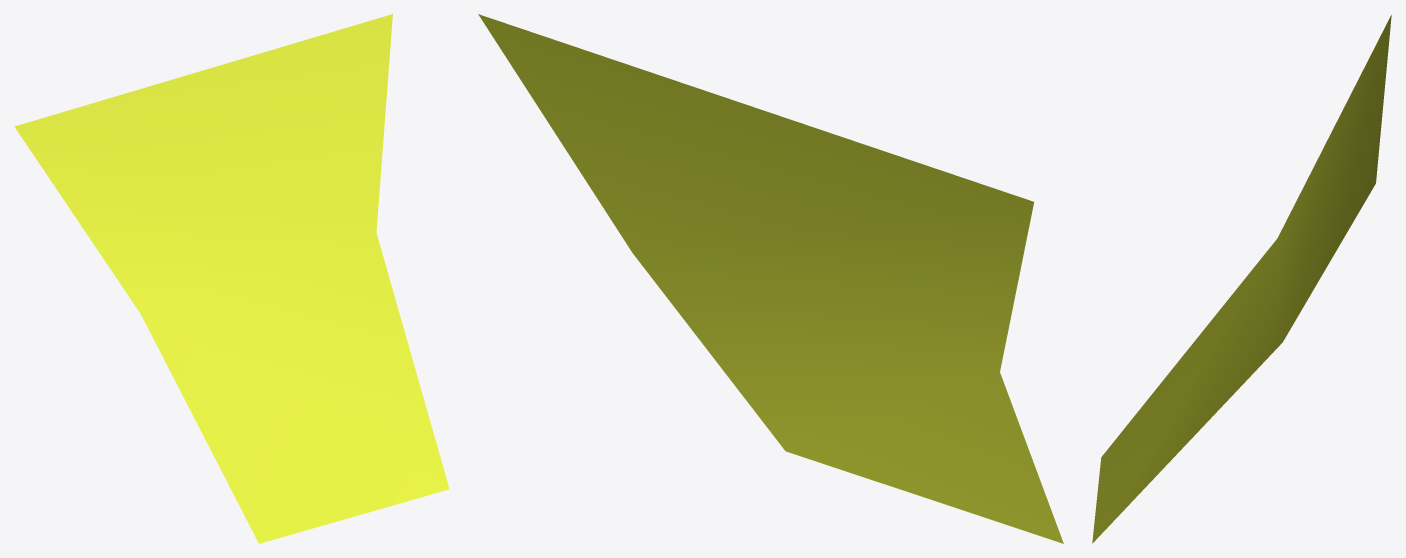
The model's file is b_polySurface605_b_BMW_i8Elite_2017CalliperGloss_Material1_0.glb.
3 renders of one model, left to right at view 1: azimuth 30°, elevation 25°; view 2: azimuth 150°, elevation 25°; view 3: azimuth 270°, elevation 25°, orthographic. The views are drawn at different scales.
Visible parts, largest first — view 1: b:polySurface605_b:BMW_i8Elite_2017CalliperGloss_Material1_0; view 2: b:polySurface605_b:BMW_i8Elite_2017CalliperGloss_Material1_0; view 3: b:polySurface605_b:BMW_i8Elite_2017CalliperGloss_Material1_0.
Part boxes in pixels (left/top/right/bottom): b:polySurface605_b:BMW_i8Elite_2017CalliperGloss_Material1_0: left=14, top=14, right=449, bottom=543; b:polySurface605_b:BMW_i8Elite_2017CalliperGloss_Material1_0: left=478, top=14, right=1063, bottom=543; b:polySurface605_b:BMW_i8Elite_2017CalliperGloss_Material1_0: left=1092, top=15, right=1391, bottom=543.
Bounding box in the file's own units: 0.0656 × 0.0634 × 0.0417.
